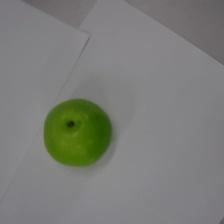green: (43, 97, 113, 167)
